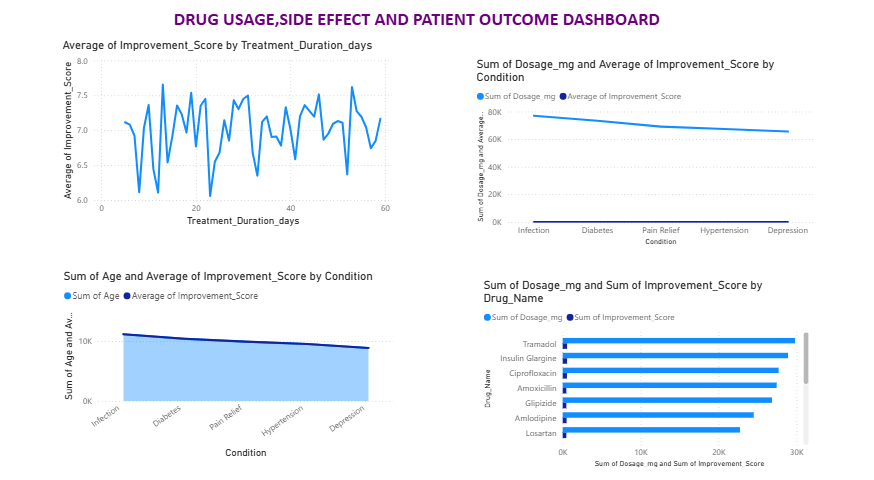

This screenshot's page, from the dashboard's own definition file:
{"tool":"powerbi","page":{"name":"Page 1","canvas":[1280,720],"ordinal":0},"visuals":[{"type":"lineChart","fields":{"Y":["Avg(Table1.Improvement_Score)"],"Category":["Table1.Treatment_Duration_days"]},"box":[86.3,70.6,492.2,280.4],"z":0},{"type":"lineChart","fields":{"Category":["Table1.Condition"],"Y":["Sum(Table1.Dosage_mg)","Avg(Table1.Improvement_Score)"]},"box":[692.2,98,503.9,280.4],"z":1000},{"type":"stackedAreaChart","fields":{"Category":["Table1.Condition"],"Y":["Sum(Table1.Age)","Avg(Table1.Improvement_Score)"]},"box":[88.2,407.8,492.2,282.4],"z":2000},{"type":"clusteredBarChart","fields":{"Category":["Table1.Drug_Name"],"Y":["Sum(Table1.Dosage_mg)","Sum(Table1.Improvement_Score)"]},"box":[702,421.6,486.3,282.4],"z":3000},{"type":"textbox","box":[89,20.2,908.8,50.4],"z":4000}]}

Visuals, with their boxes in screenshot pixels (x1, y1, x2, y2), scaled from the page's 1280x720 canvas onto the 874x480 screenshot:
lineChart - Avg(Table1.Improvement_Score) x Table1.Treatment_Duration_days: [59, 47, 395, 234]
lineChart - Table1.Condition x Sum(Table1.Dosage_mg): [473, 65, 817, 252]
stackedAreaChart - Table1.Condition x Sum(Table1.Age): [60, 272, 396, 460]
clusteredBarChart - Table1.Drug_Name x Sum(Table1.Dosage_mg): [479, 281, 811, 469]
textbox: [61, 13, 681, 47]
